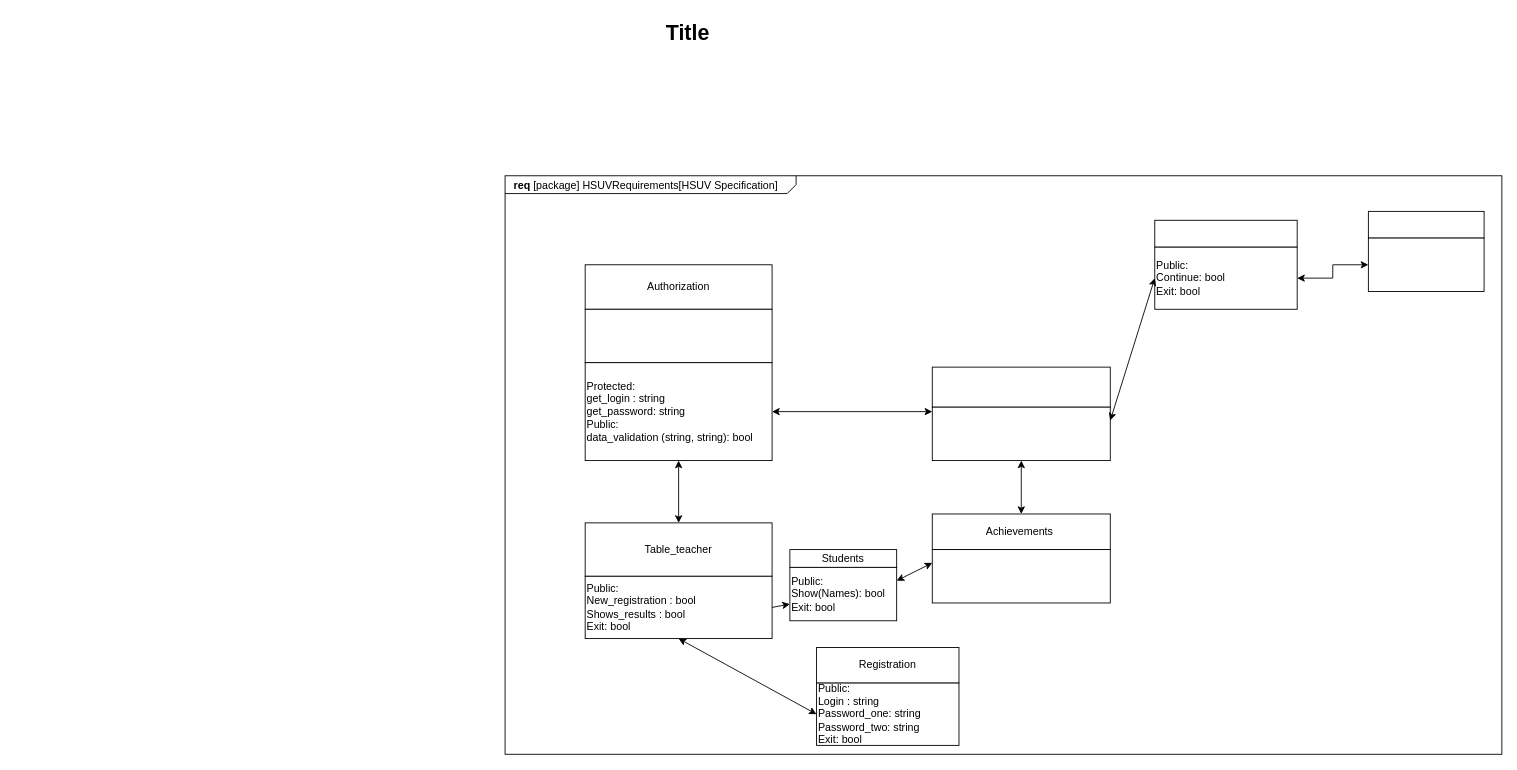
This 1517x770 diagram has some shape labels left out. The centre of each missing label's shape, as x and y in pixels:
Course: the point at 1225,233
Level: the point at 1425,224
Protected: Login : string Password : string: the point at 678,335
Public: Show_results(results) Exit: bool: the point at 1020,576
Public: Start_course : bool Achievements: bool Exit: bool: the point at 1020,433
Table_student: the point at 1020,386
